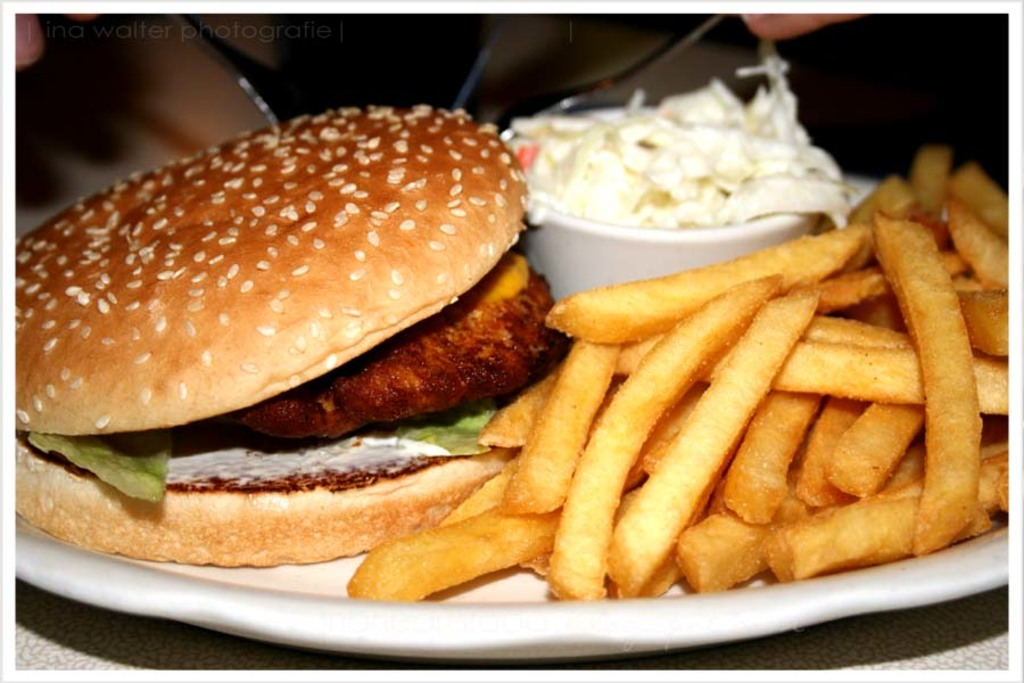Hamburger: (12, 104, 564, 566)
